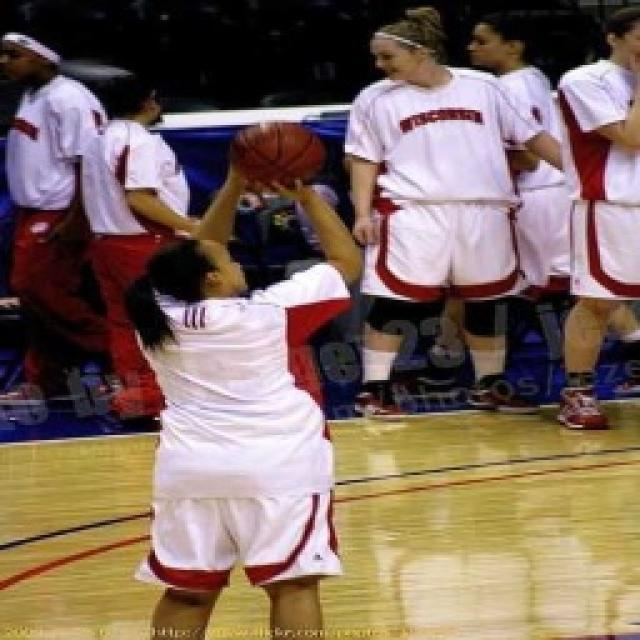rim: (226, 118, 332, 190)
